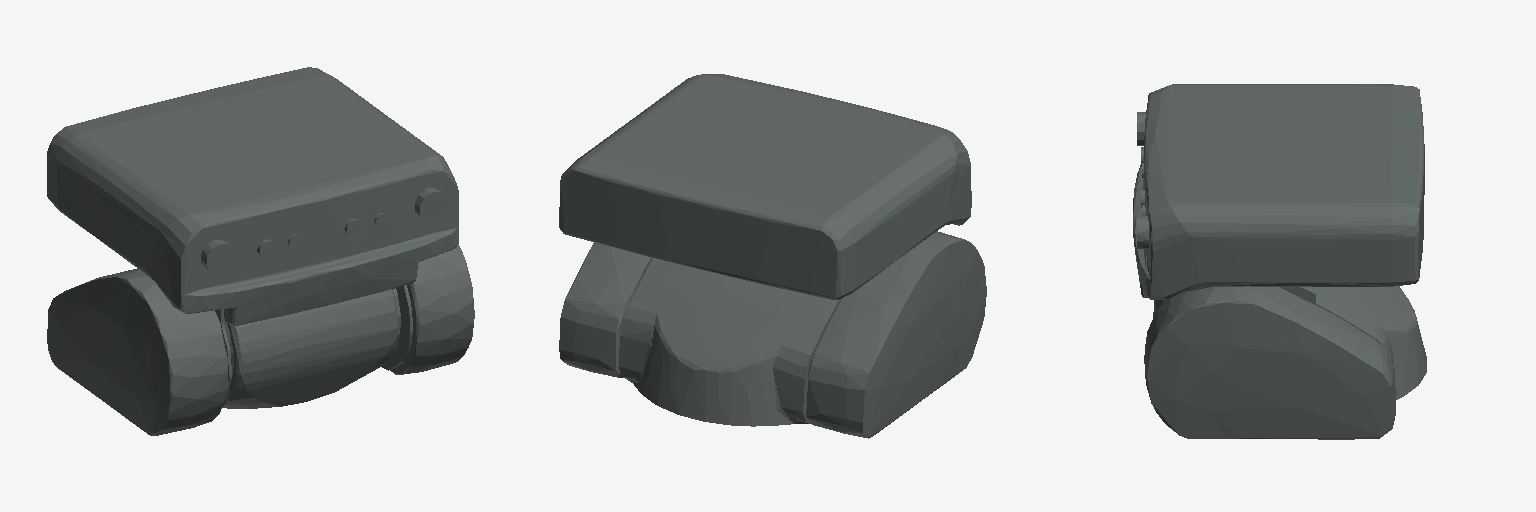
The model's file is jeep1.obj.
3 views of the same model, side by side, from view 1: azimuth 30°, elevation 25°; view 2: azimuth 150°, elevation 25°; view 3: azimuth 270°, elevation 25° (orthographic).
Parts seen in each view (by area): view 1: Pr2_Head_Tilt_Pr2_Head_Tilt.001, Pr2_Head_Pan_Pr2_Head_Pan.002; view 2: Pr2_Head_Tilt_Pr2_Head_Tilt.001, Pr2_Head_Pan_Pr2_Head_Pan.002; view 3: Pr2_Head_Tilt_Pr2_Head_Tilt.001, Pr2_Head_Pan_Pr2_Head_Pan.002.
Part boxes in pixels (bbox=[...]): Pr2_Head_Tilt_Pr2_Head_Tilt.001: bbox=[47, 67, 458, 404]; Pr2_Head_Pan_Pr2_Head_Pan.002: bbox=[47, 244, 474, 435]; Pr2_Head_Tilt_Pr2_Head_Tilt.001: bbox=[559, 74, 971, 299]; Pr2_Head_Pan_Pr2_Head_Pan.002: bbox=[559, 231, 986, 438]; Pr2_Head_Tilt_Pr2_Head_Tilt.001: bbox=[1133, 84, 1424, 299]; Pr2_Head_Pan_Pr2_Head_Pan.002: bbox=[1144, 286, 1426, 439].
Size of the model in its own units: 0.3212 by 0.2203 by 0.2639.